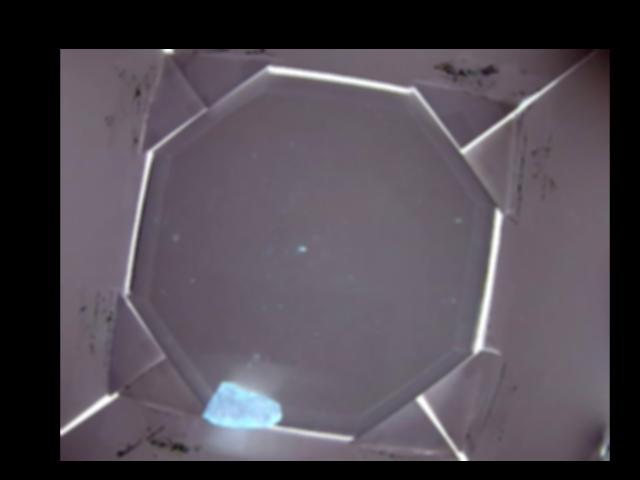Brisk: (204, 382, 280, 427)
